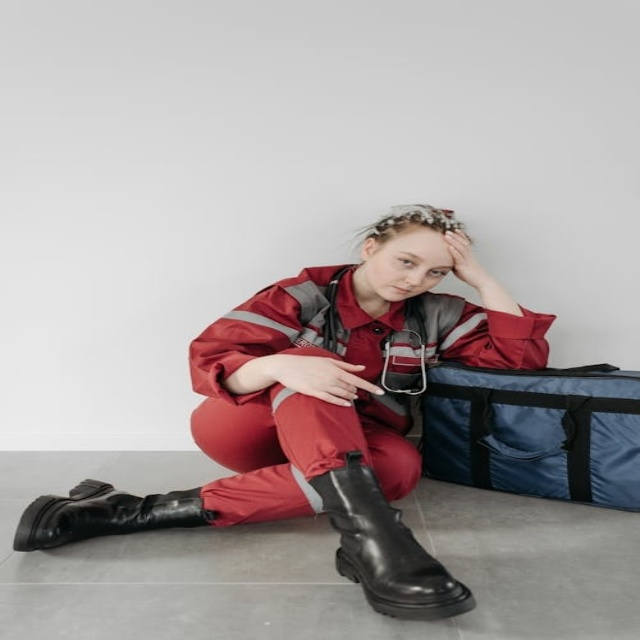Sin_gafas: (379, 249, 449, 280)
Sin_guantes: (274, 351, 387, 408), (436, 225, 485, 285)
Sin_mascara: (381, 283, 417, 300)
